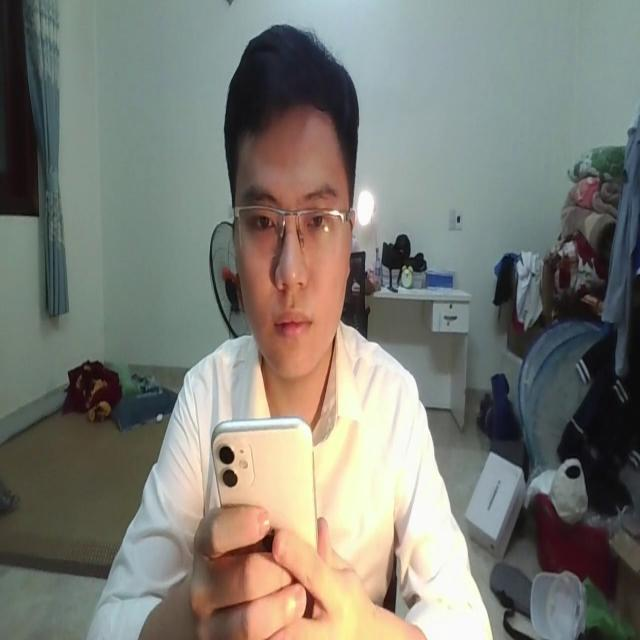phone: (211, 411, 324, 579)
student: (91, 31, 493, 640)
